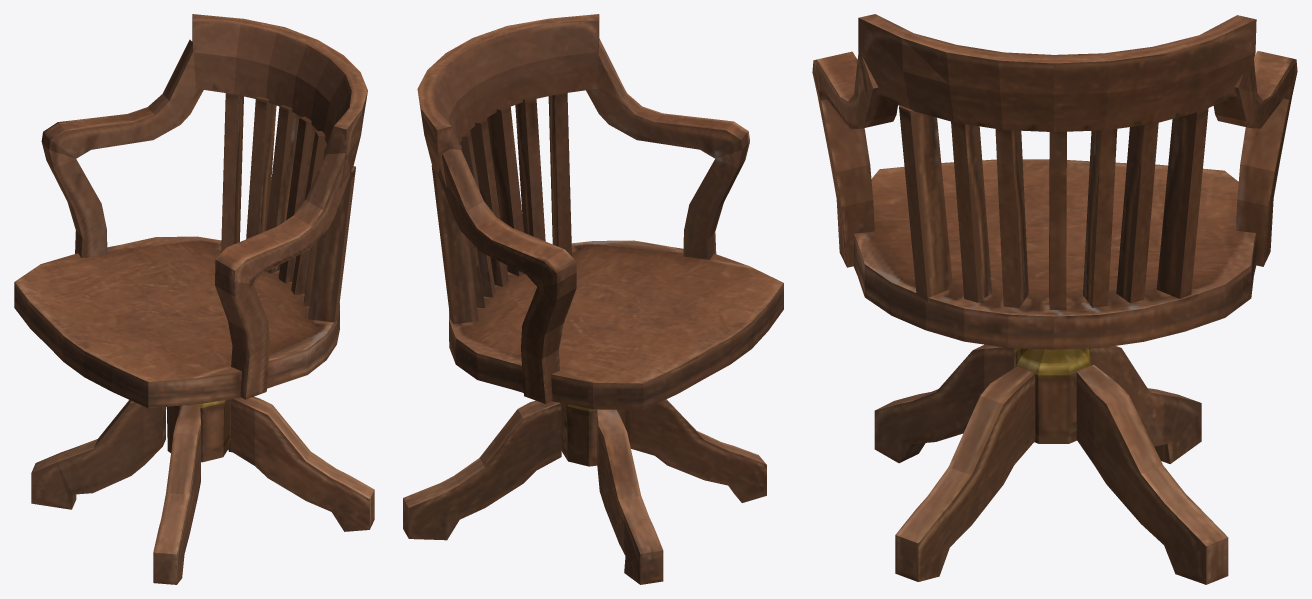
The model's file is SwivelChair.fbx.
3 renders of one model, left to right at view 1: azimuth 30°, elevation 25°; view 2: azimuth 150°, elevation 25°; view 3: azimuth 270°, elevation 25°, orthographic. The views are drawn at different scales.
Visible parts, largest first — view 1: SwivelChair_Low; view 2: SwivelChair_Low; view 3: SwivelChair_Low.
Boxes of the visible parts, x1,y1,x2,y2 form: SwivelChair_Low: (14, 14, 374, 584); SwivelChair_Low: (403, 14, 783, 584); SwivelChair_Low: (812, 14, 1297, 584).
Size of the model in its own units: 0.7502 by 1.09 by 0.8875.
